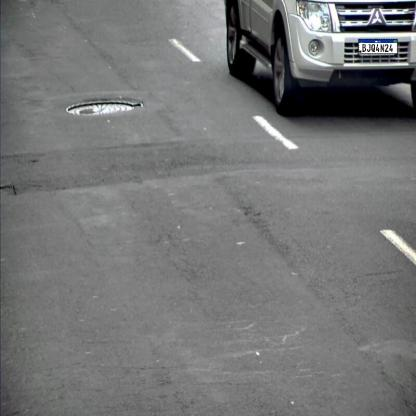PlacaM: (358, 39, 398, 54)
